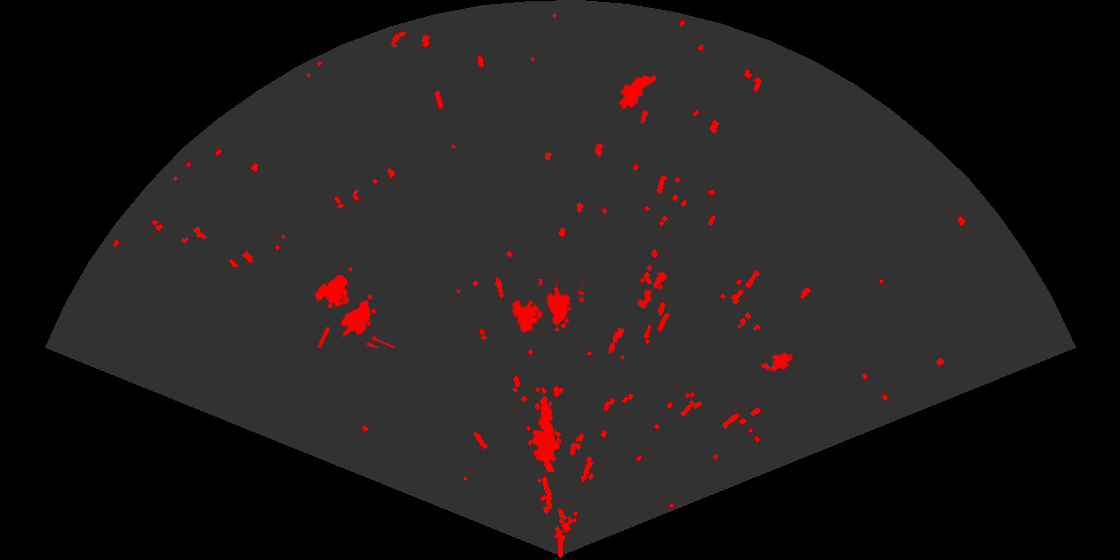AUV: (618, 74, 658, 110), (759, 351, 795, 373)
cage: (313, 273, 397, 348), (510, 279, 584, 334)
chain: (607, 270, 669, 355)
frogman: (526, 394, 561, 472)
